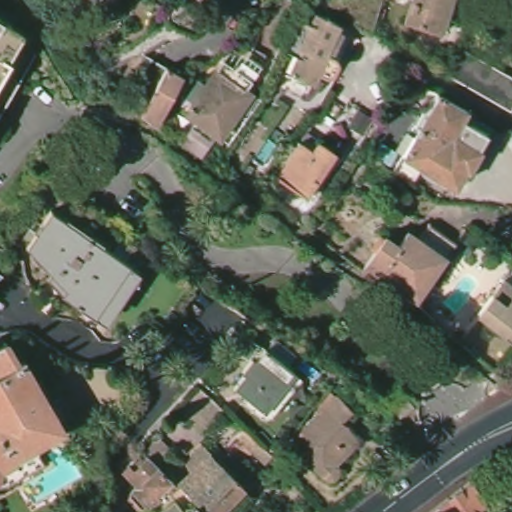pool: (18, 451, 85, 496), (437, 275, 480, 312), (248, 134, 277, 167), (295, 356, 326, 383)
